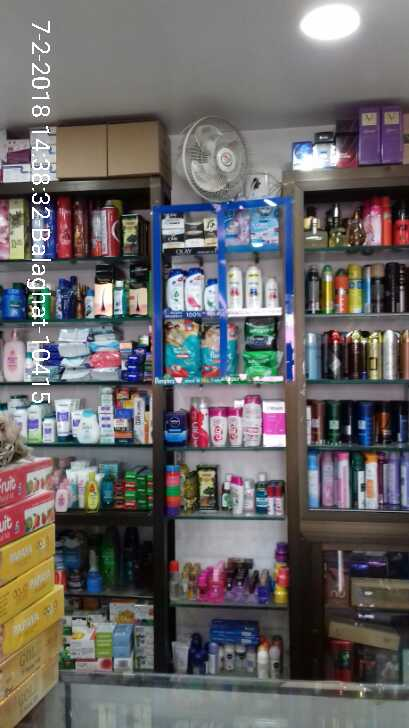venus: (251, 207, 278, 244), (226, 210, 251, 244)
